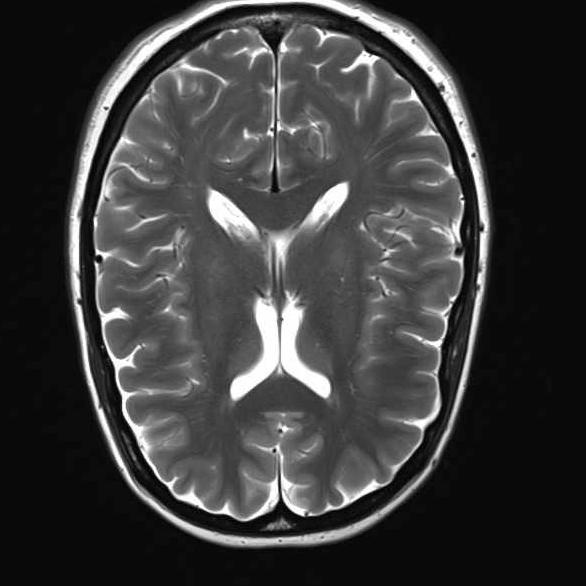Normal_Brain: (2, 1, 571, 586)
